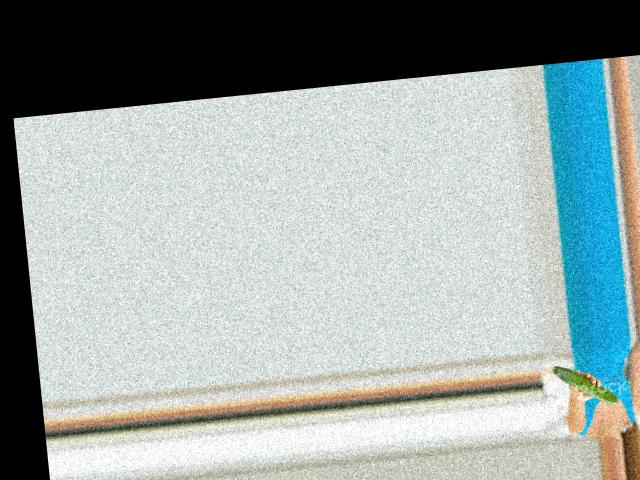cucumber: (552, 359, 618, 409)
